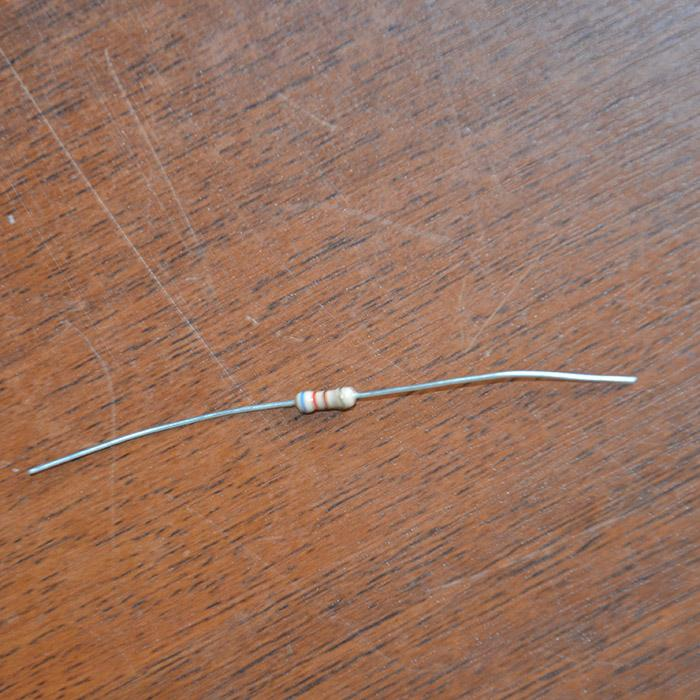resistor: (294, 386, 356, 414)
